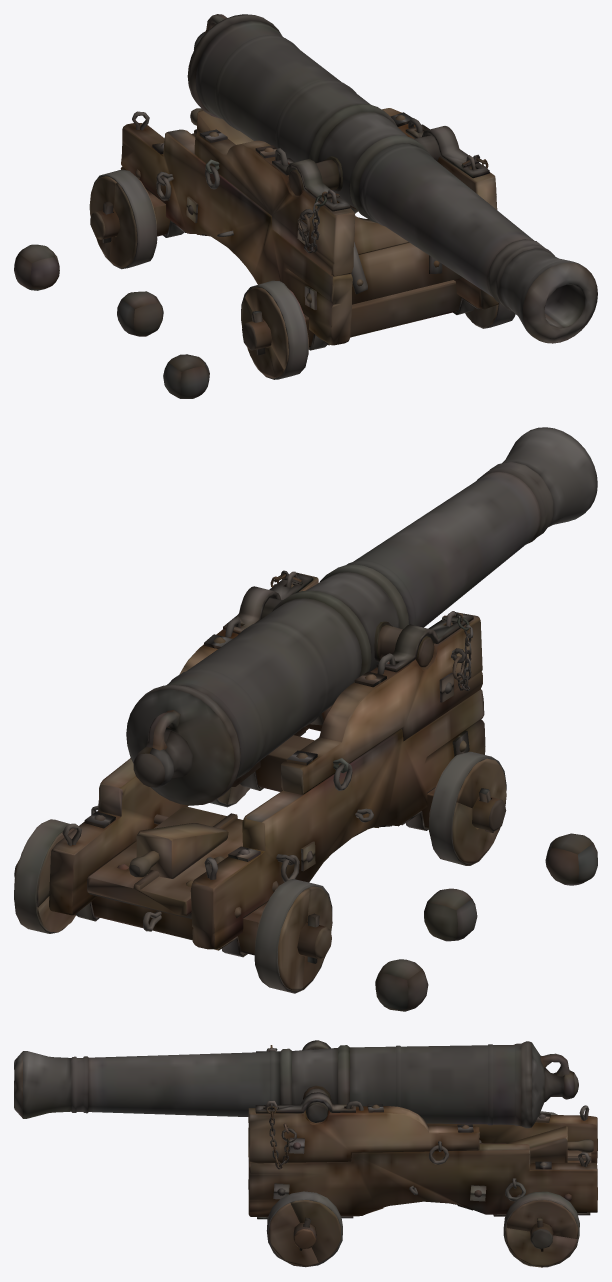
Rendered from design-cannon-01.glb.
The picture shows the model from 3 angles, top to bottom: view 1: azimuth 30°, elevation 25°; view 2: azimuth 150°, elevation 25°; view 3: azimuth 270°, elevation 25°; orthographic projection. The views are drawn at different scales.
Parts seen in each view (by area): view 1: cannon_01_ball_01; view 2: cannon_01_ball_01; view 3: cannon_01_ball_01.
Boxes of the visible parts, x1,y1,x2,y2 form: cannon_01_ball_01: (14, 14, 597, 398); cannon_01_ball_01: (14, 427, 597, 1011); cannon_01_ball_01: (14, 1040, 597, 1267).
Size of the model in its own units: 1.23 by 0.7759 by 2.3.
Materials: 1 (1 with a texture image).
